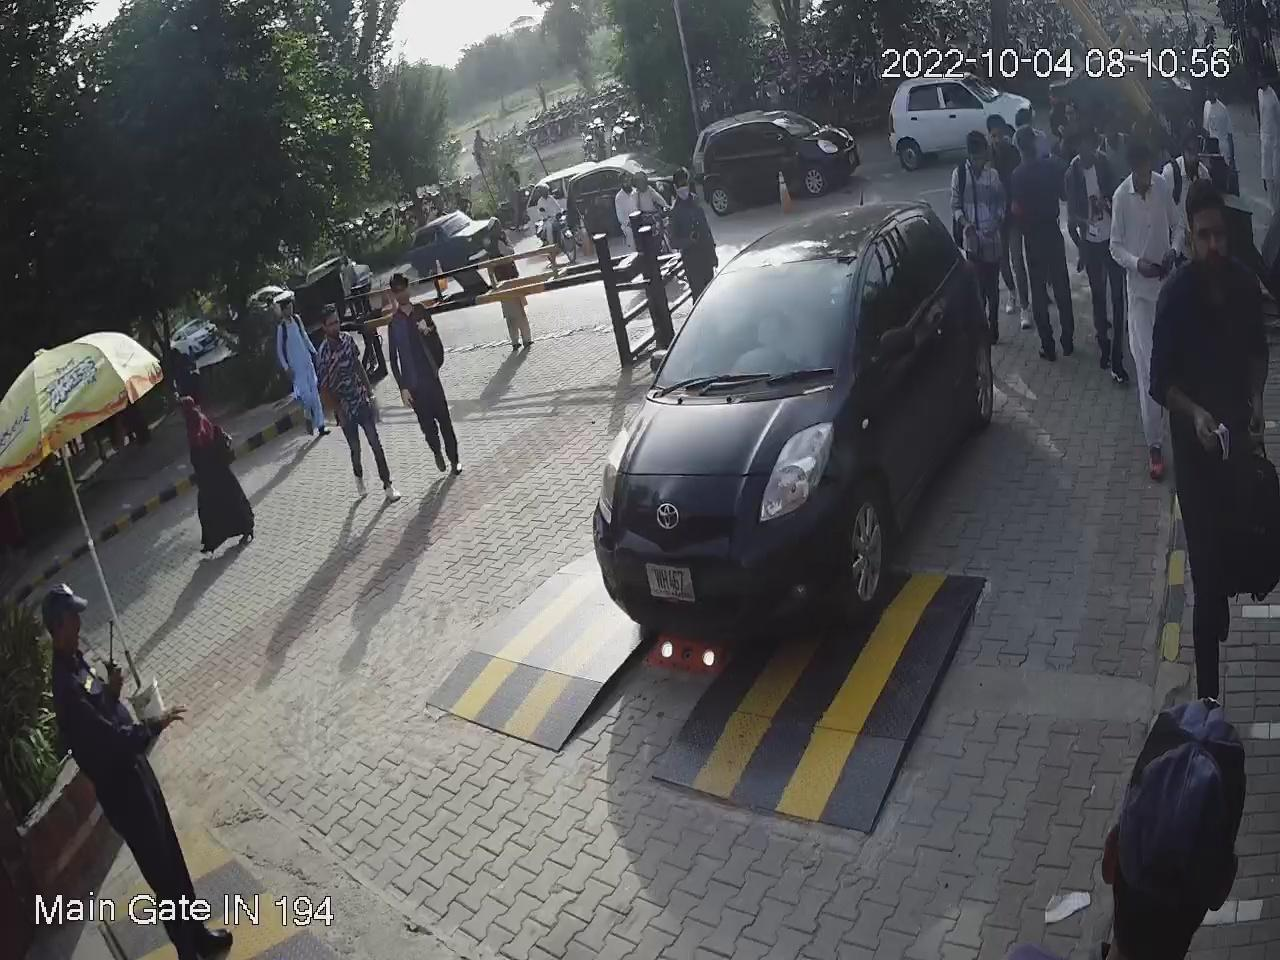windshield: (655, 238, 864, 400)
